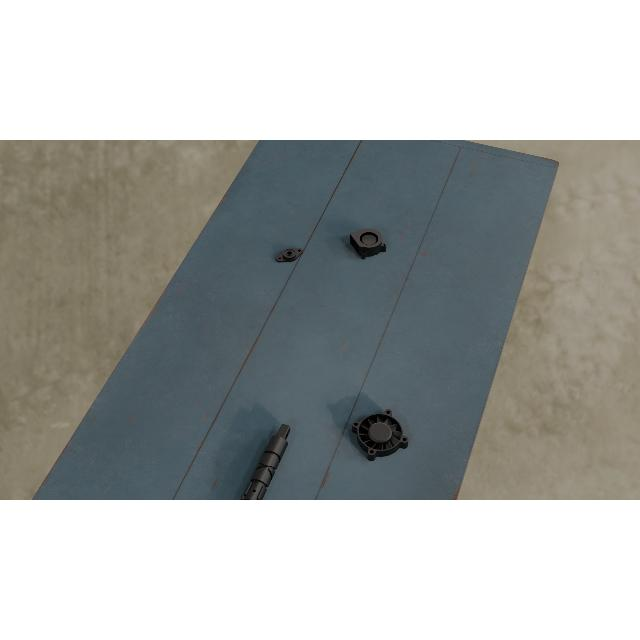Pieza1: (230, 420, 294, 500)
Pieza2: (274, 244, 306, 266)
Pieza3: (349, 225, 388, 261)
Pieza4: (350, 408, 410, 464)
